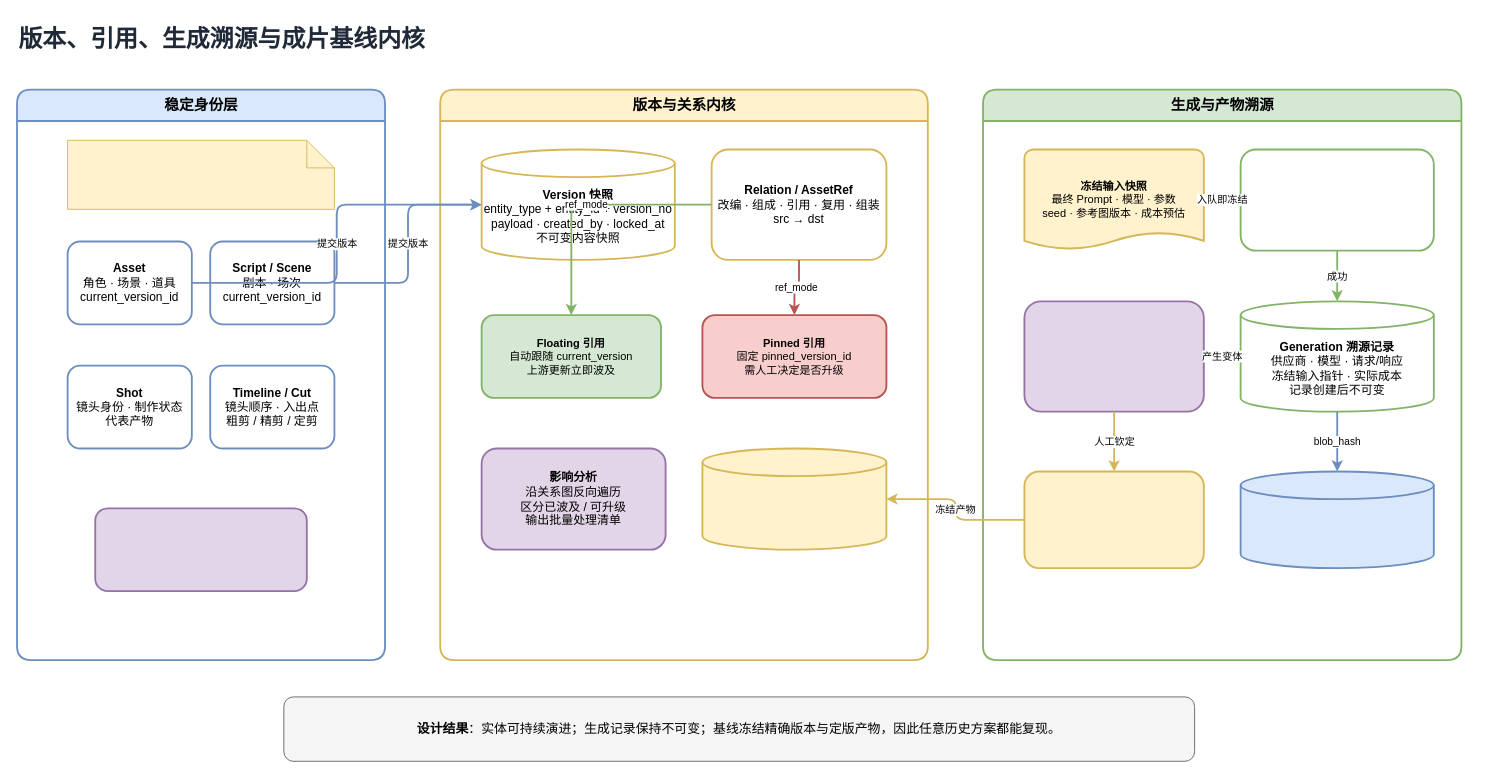
The diagram is 1504 pixels wide and 777 high, and some of its shapes have lost their labels. The box of each missing label's shape, as (x1, y1, x2, y2) in pixels:
Baseline + BaselineItem 定剪触发冻结实体 ID + 精确版本 ID 支持回溯、比较与并行方案: (701, 447, 887, 550)
Blob / CAS hash → uri 内容去重 · 版本只存指针: (1239, 470, 1434, 569)
GenerationJob 绑定镜头 / 资产目标 pending → running → succeeded / failed / canceled: (1239, 148, 1434, 251)
Project 数据与权限隔离根 所有实体携带 project_id: (94, 507, 307, 592)
Selected Variant 镜头代表版 / 定版片段 进入时间线与成片基线: (1023, 470, 1204, 569)
主记录只表达“它是谁” 内容变化进入不可变版本快照: (67, 139, 334, 209)
产物变体集合 图像 / 视频 · 评分 · 收藏 钦定代表版本: (1023, 300, 1204, 412)
